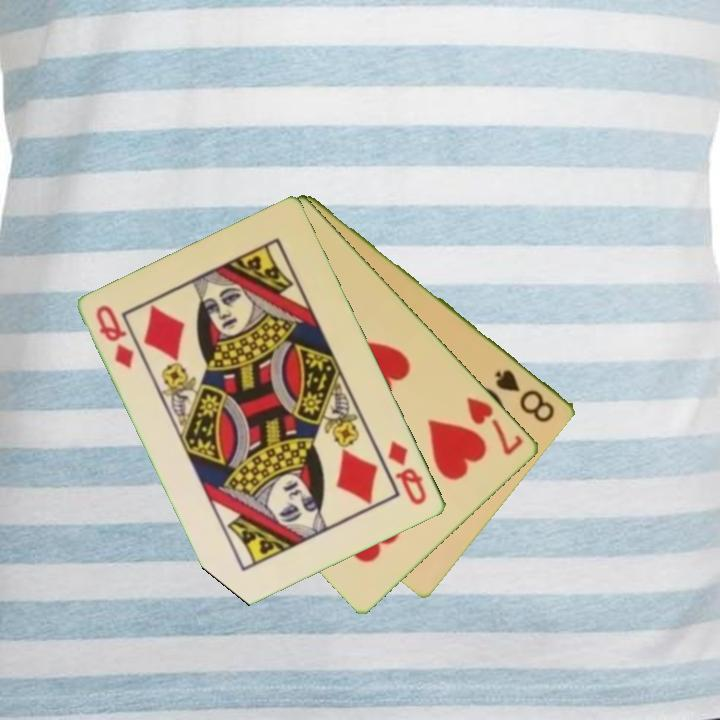7h: (463, 393, 527, 459)
8s: (492, 365, 558, 426)
Qd: (385, 437, 430, 509), (93, 301, 138, 372)
